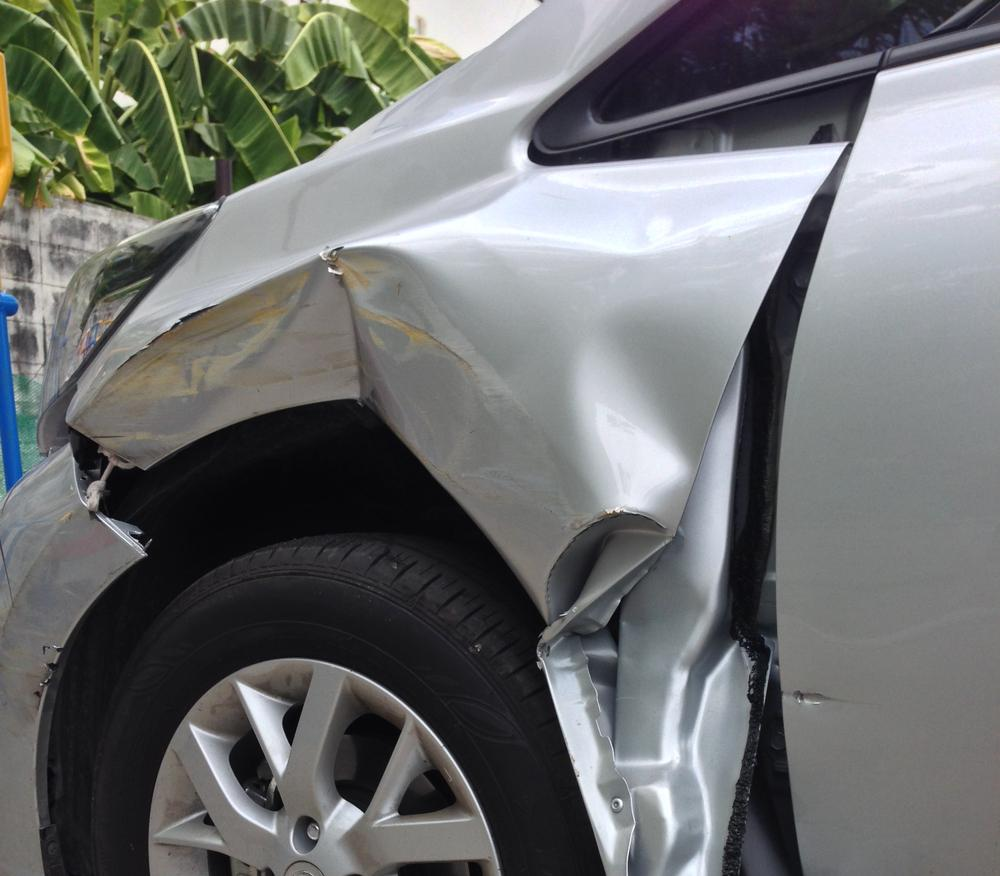dent: (65, 238, 482, 472), (479, 153, 830, 251), (577, 315, 715, 510)
scratch: (447, 347, 584, 532)
